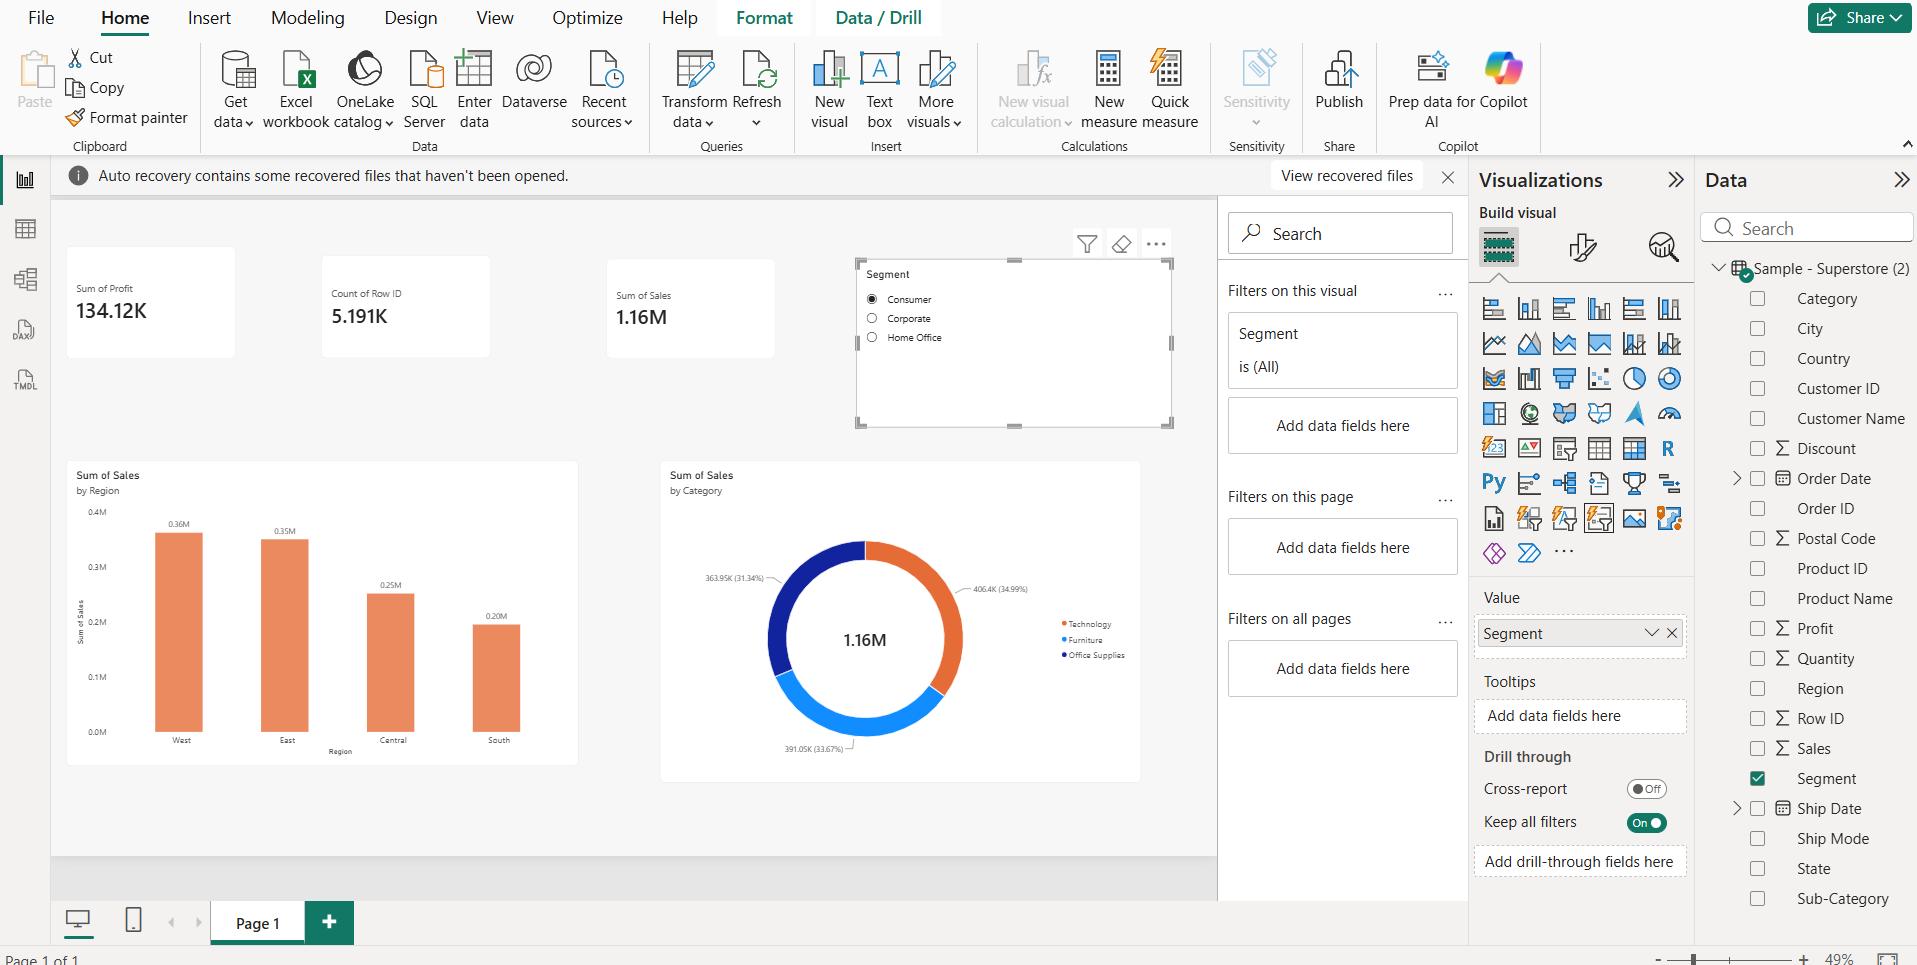

Layout of this report page (visuals, bound fields, positions):
{"tool":"powerbi","page":{"name":"Page 1","canvas":[1920,1080],"ordinal":0},"visuals":[{"type":"cardVisual","fields":{"Data":["CountNonNull(Sample - Superstore (2).Row ID)"]},"box":[444.6,90.6,279.9,170.8],"z":0},{"type":"cardVisual","fields":{"Data":["Sum(Sample - Superstore (2).Sales)"]},"box":[913.9,96.7,279.9,164.7],"z":1},{"type":"cardVisual","fields":{"Data":["Sum(Sample - Superstore (2).Profit)"]},"box":[24.7,76.2,279.9,185.2],"z":2},{"type":"clusteredColumnChart","fields":{"Category":["Sample - Superstore (2).Region"],"Y":["Sum(Sample - Superstore (2).Sales)"]},"box":[24.7,428.1,843.9,504.3],"z":3},{"type":"donutChart","fields":{"Category":["Sample - Superstore (2).Category"],"Y":["Sum(Sample - Superstore (2).Sales)"]},"box":[1002.4,428.1,792.5,531],"z":4},{"type":"listSlicer","fields":{"Values":["Sample - Superstore (2).Segment"]},"box":[1325.6,96.7,520.8,277.9],"z":5}]}

Visuals, with their boxes on the page's 1920x1080 design canvas (x1, y1, x2, y2). These are canvas units, not pixel positions in the 1917x965 screenshot, which may show the page scaled, cropped or inside an application window:
cardVisual - CountNonNull(Sample - Superstore (2).Row ID): 445 91 724 261
cardVisual - Sum(Sample - Superstore (2).Sales): 914 97 1194 261
cardVisual - Sum(Sample - Superstore (2).Profit): 25 76 305 261
clusteredColumnChart - Sample - Superstore (2).Region x Sum(Sample - Superstore (2).Sales): 25 428 869 932
donutChart - Sample - Superstore (2).Category x Sum(Sample - Superstore (2).Sales): 1002 428 1795 959
listSlicer - Sample - Superstore (2).Segment: 1326 97 1846 375
